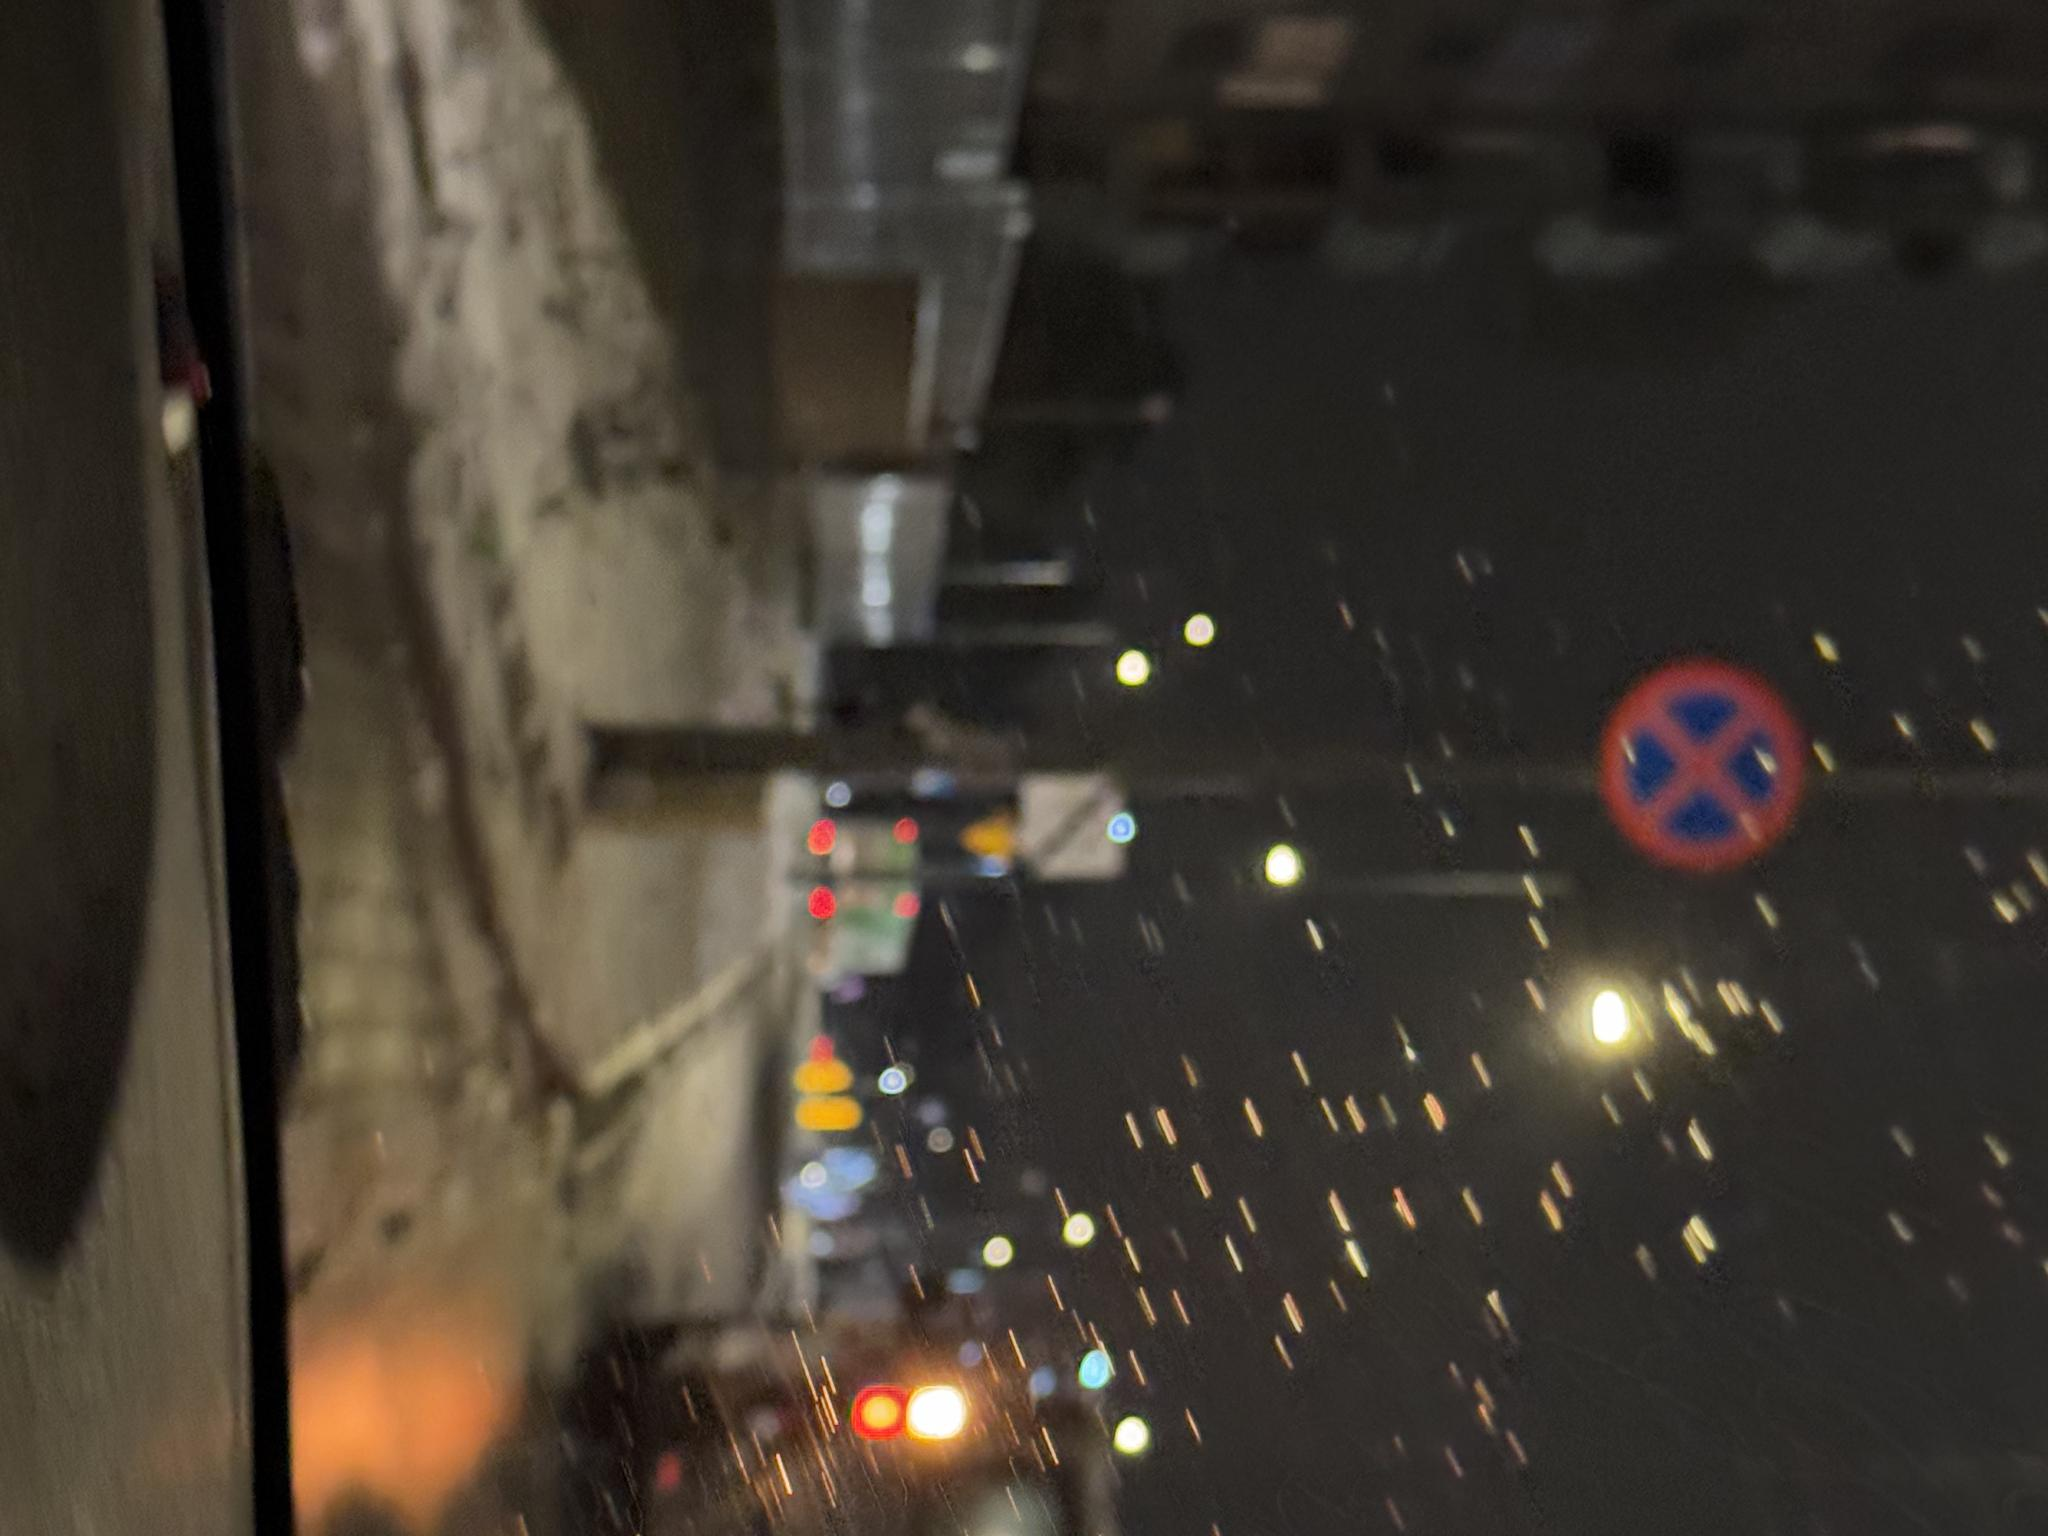prohibitory: (1169, 234, 1385, 450)
